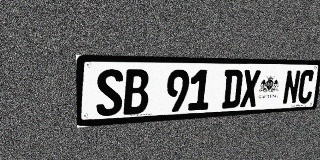1: (188, 70, 211, 111)
9: (166, 69, 190, 112)
B: (123, 69, 149, 115)
C: (297, 70, 315, 104)
D: (221, 70, 243, 109)
N: (282, 70, 301, 105)
S: (96, 69, 123, 117)
X: (240, 70, 261, 107)
